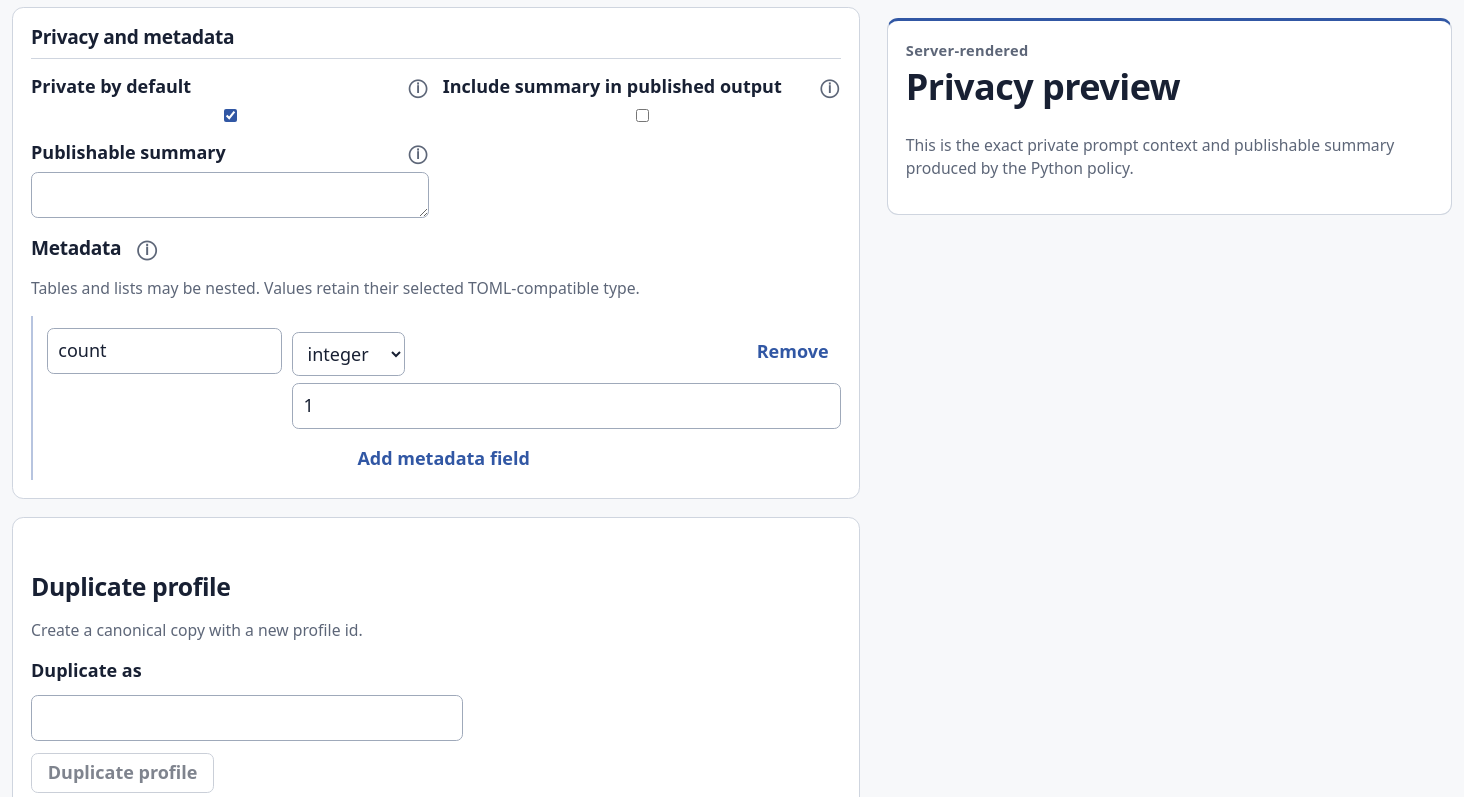
Test: ProfileEditorPage › blocks save and shows field validation for an incomplete numeric draft
This screenshot has width=1464, height=797.
(page scrolled)
Replace the text in the field named "Metadata value count" with "-" at [566, 406], box [292,383,841,429]
(page scrolled)
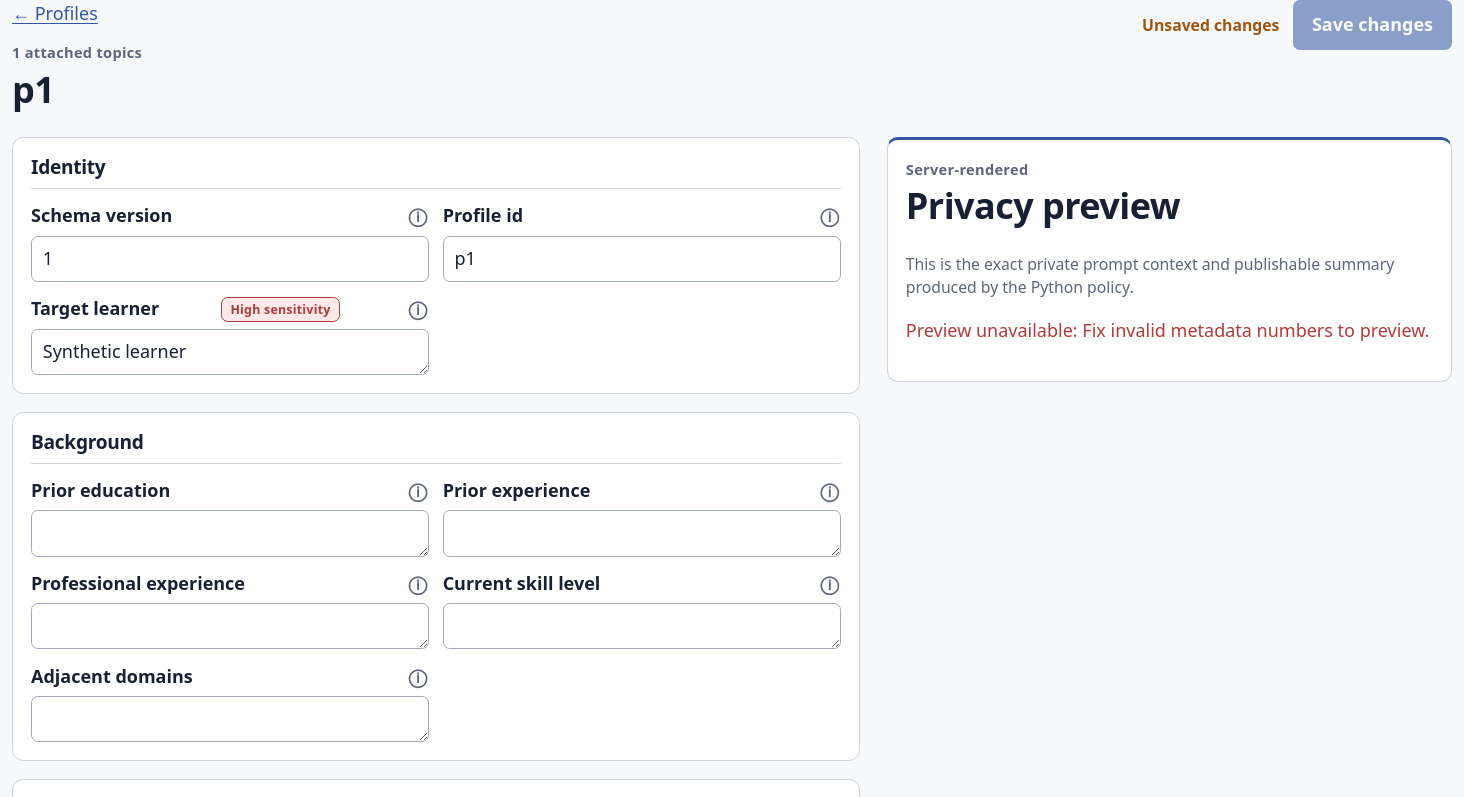
Result: the button "Save changes" is disabled at [1293,0,1452,50]
